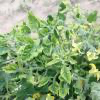Tomato leaf yellow virus: (18, 43, 44, 65), (0, 62, 20, 77), (24, 11, 40, 29), (59, 65, 74, 84), (58, 85, 75, 99), (40, 45, 56, 57), (20, 36, 36, 47), (49, 82, 61, 95), (37, 76, 50, 88), (71, 43, 87, 52)
